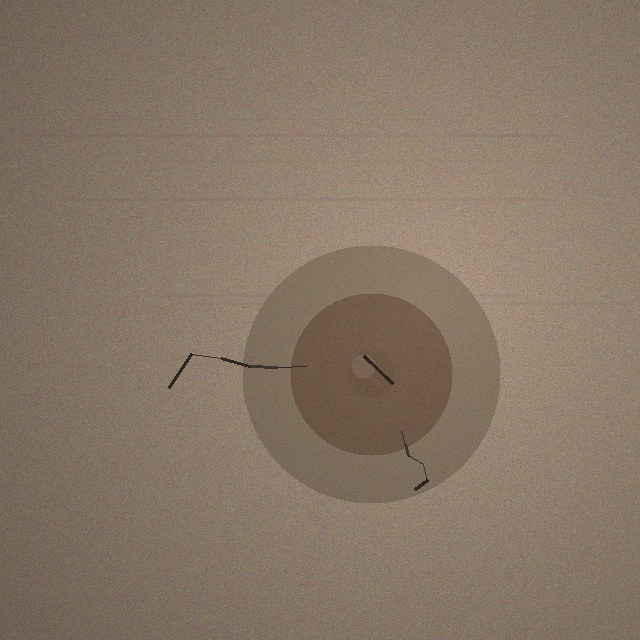crack: (242, 245, 500, 503)
